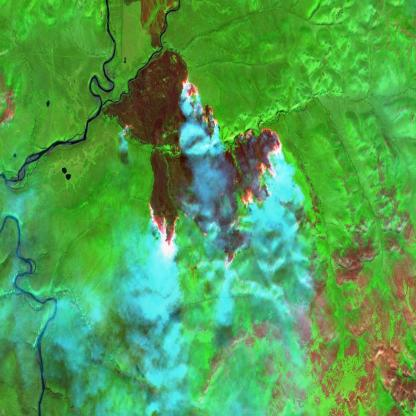fire: (121, 70, 290, 272)
